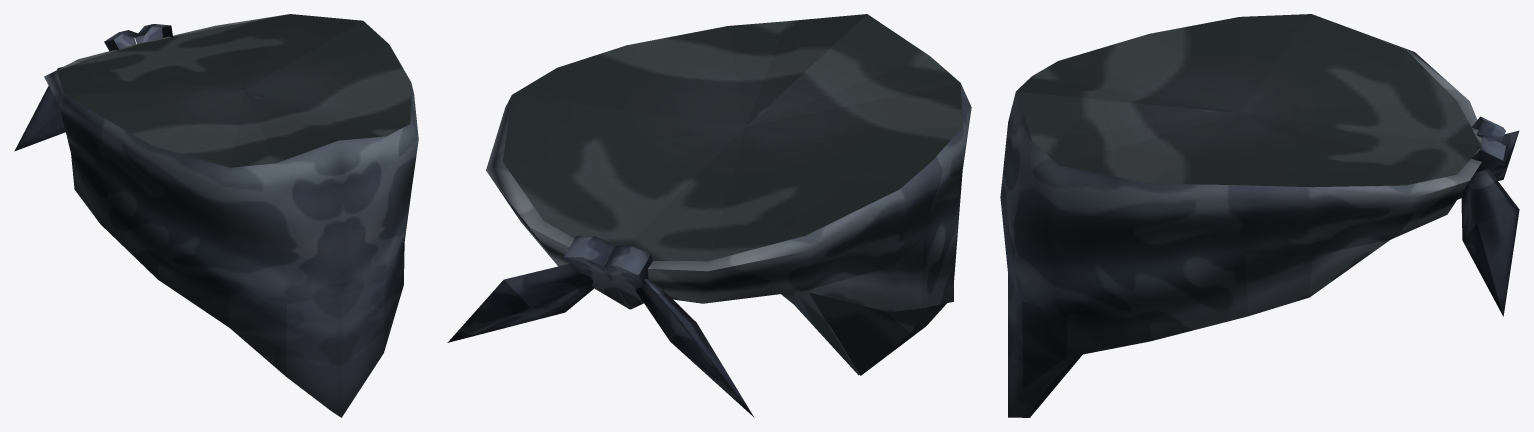
Rendered from FaceFront.fbx.
3 views of the same model, side by side, from view 1: azimuth 30°, elevation 25°; view 2: azimuth 150°, elevation 25°; view 3: azimuth 270°, elevation 25° (orthographic). The views are drawn at different scales.
Parts seen in each view (by area): view 1: Normal_Mask_Acc; view 2: Normal_Mask_Acc; view 3: Normal_Mask_Acc.
Boxes of the visible parts, x1,y1,x2,y2 form: Normal_Mask_Acc: (14,14,418,417); Normal_Mask_Acc: (447,14,971,417); Normal_Mask_Acc: (1000,14,1519,417).
Bounding box in the file's own units: 0.7893 × 0.6711 × 0.9685.
Materials: 1 (1 with a texture image).
